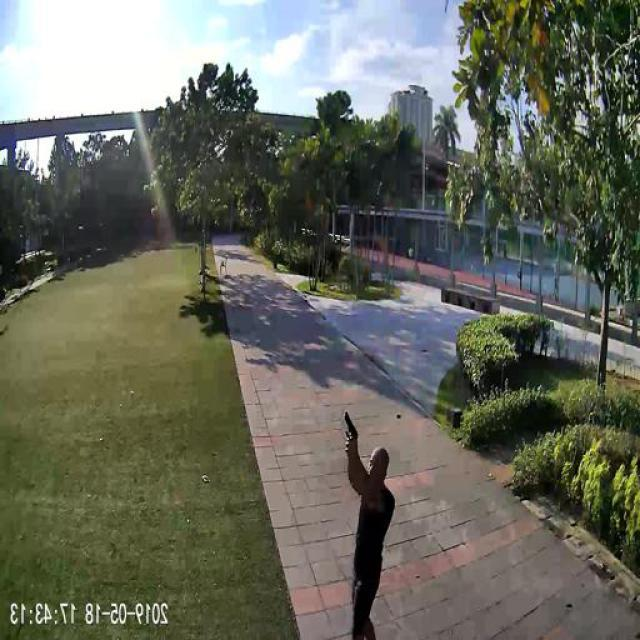Gun: (345, 408, 361, 442)
